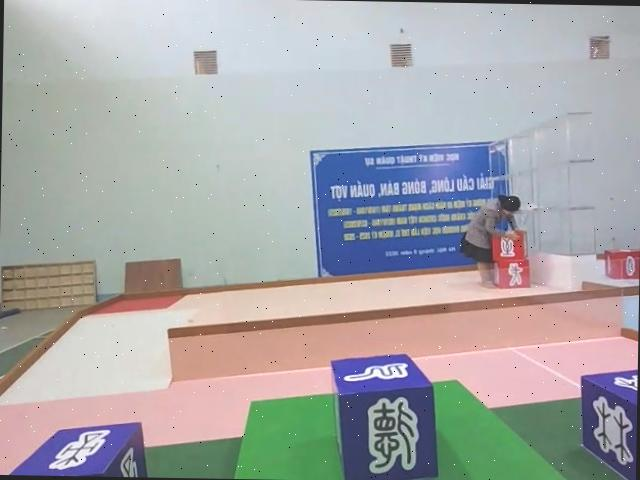R2 Fake Blue: (326, 352, 439, 480)
R2 Real Blue: (4, 419, 150, 478), (581, 371, 638, 480)
